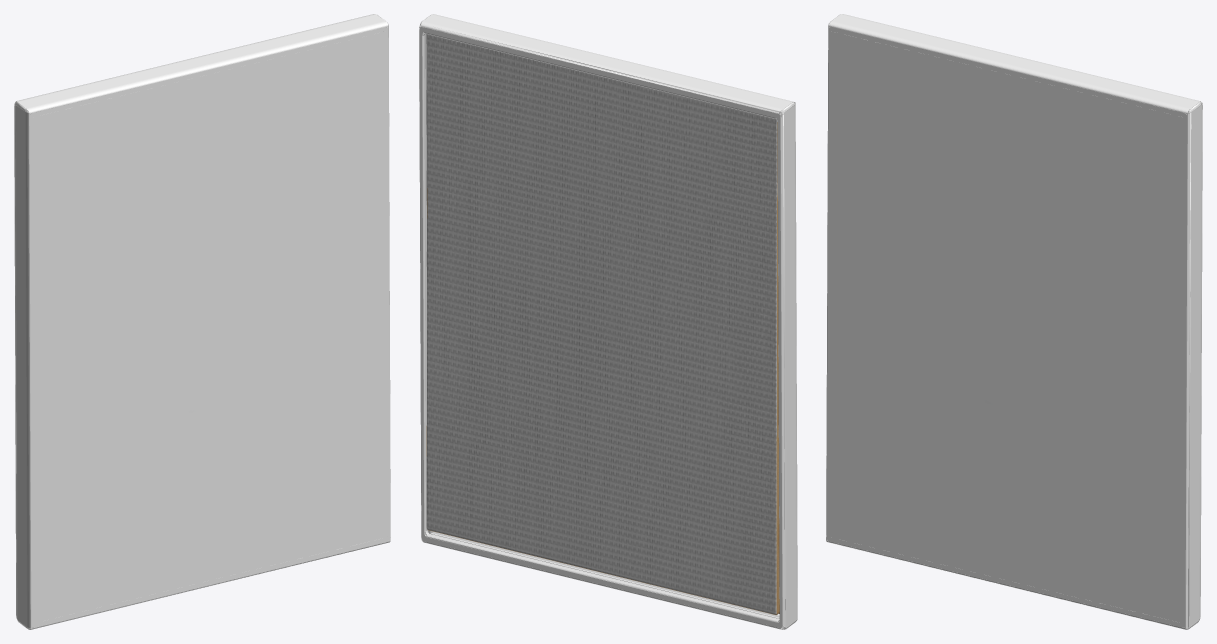
The model's file is canvas-portrait.glb.
3 views of the same model, side by side, from view 1: azimuth 30°, elevation 25°; view 2: azimuth 150°, elevation 25°; view 3: azimuth 330°, elevation 25° (orthographic).
Parts seen in each view (by area): view 1: canvas-print_0.009; view 2: canvas-print_0.009; view 3: canvas-print_0.009.
Boxes of the visible parts, left/top/right/bottom form: canvas-print_0.009: left=14, top=14, right=390, bottom=629; canvas-print_0.009: left=419, top=14, right=797, bottom=629; canvas-print_0.009: left=826, top=14, right=1202, bottom=629.
Size of the model in its own units: 0.9751 by 1.34 by 0.0801.
Materials: 2 (2 with a texture image).
